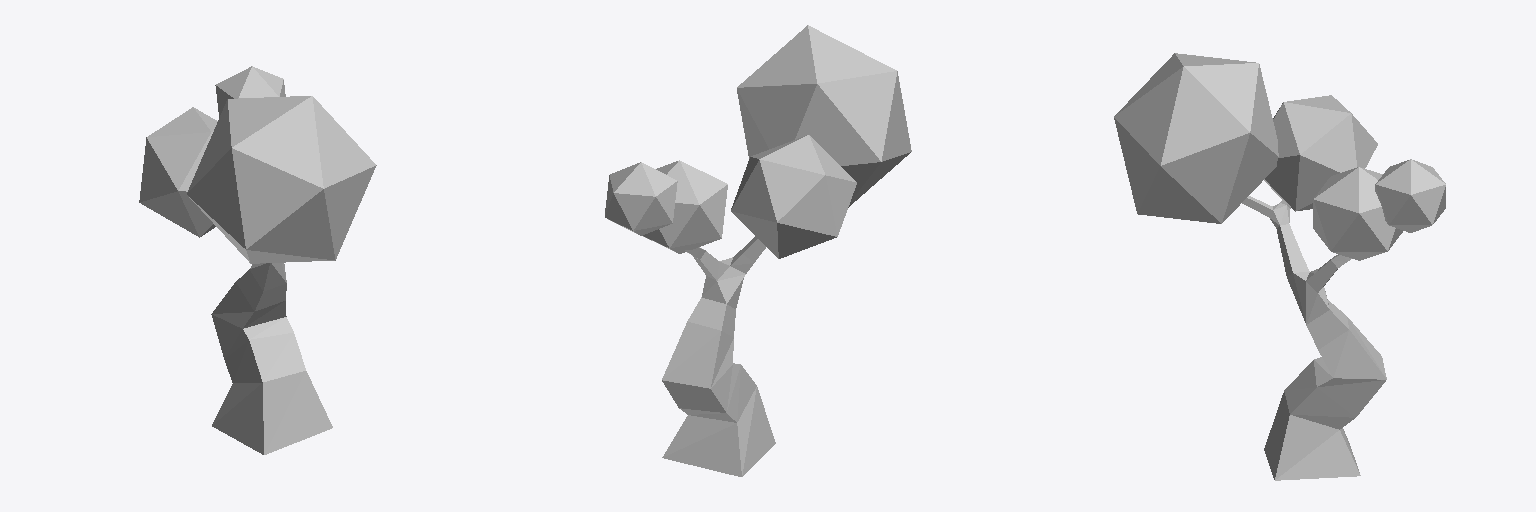
Rendered from tree.obj.
3 views of the same model, side by side, from view 1: azimuth 30°, elevation 25°; view 2: azimuth 150°, elevation 25°; view 3: azimuth 270°, elevation 25° (orthographic).
Parts seen in each view (by area): view 1: Cube; view 2: Cube; view 3: Cube.
Boxes of the visible parts, <box> form: Cube: <box>139,66,376,454</box>; Cube: <box>605,25,911,476</box>; Cube: <box>1114,53,1445,480</box>.
Bounding box in the file's own units: 2.78 × 5.52 × 4.3.